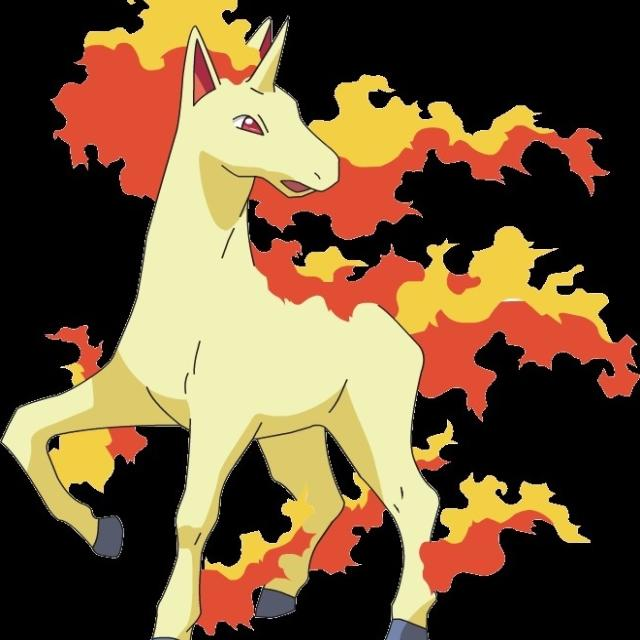Rapidash: (109, 26, 442, 640)
